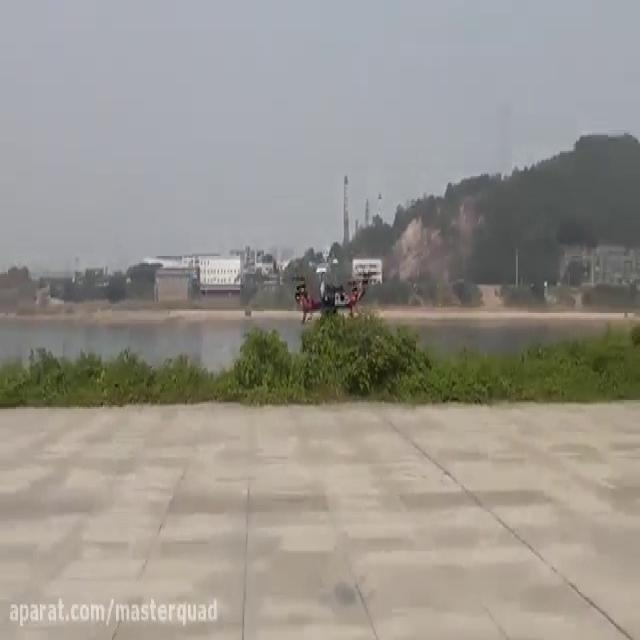drone: (289, 254, 372, 327)
